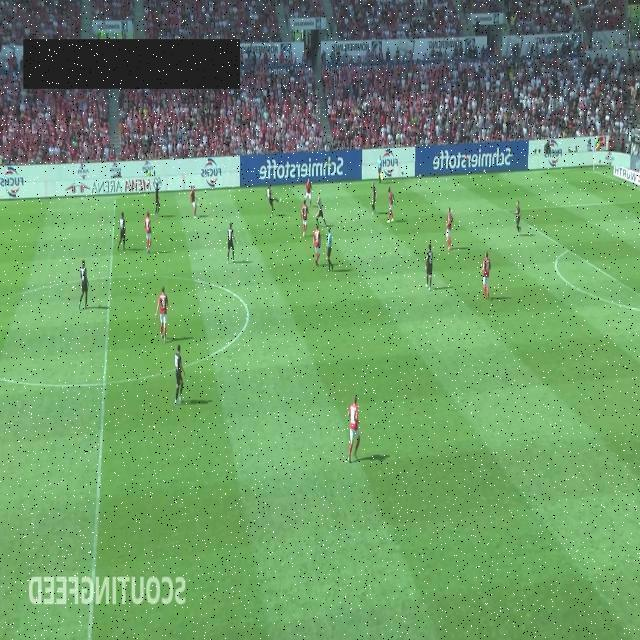Ball: (282, 114, 285, 120)
Corner: (592, 140, 595, 172)
Referee: (326, 228, 334, 272), (377, 154, 383, 182)
TEAM 1: (347, 395, 360, 463), (156, 285, 168, 343), (481, 250, 492, 300), (312, 224, 322, 266), (445, 207, 453, 251), (144, 212, 152, 254), (301, 198, 309, 238), (387, 186, 395, 223), (304, 177, 313, 208), (189, 184, 197, 218)
TEAM 2: (174, 343, 186, 405), (78, 260, 90, 310), (266, 186, 282, 216), (425, 243, 433, 290), (315, 197, 327, 227), (228, 222, 236, 264), (118, 212, 126, 252), (514, 200, 522, 236), (154, 182, 160, 217), (371, 182, 377, 215)
